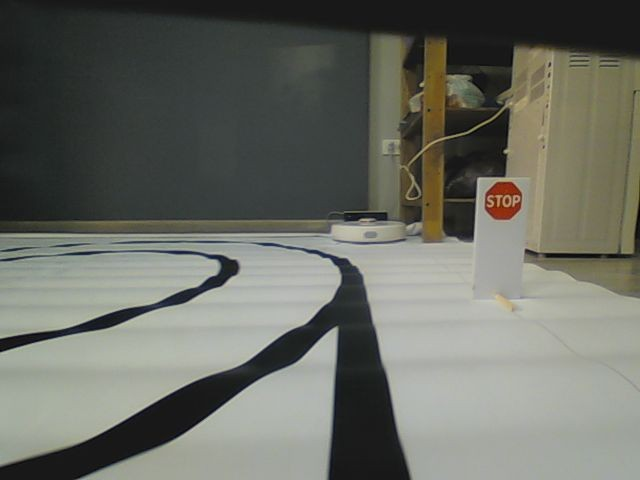Stop: (482, 180, 523, 222)
